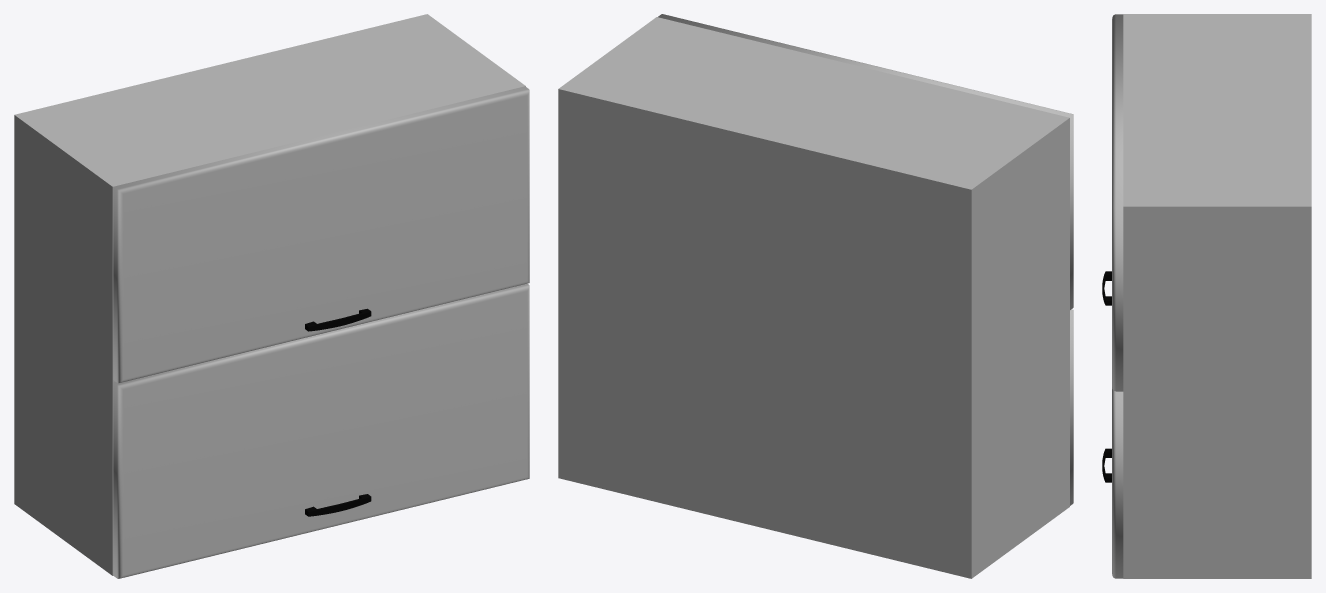
3 views of the same model, side by side, from view 1: azimuth 30°, elevation 25°; view 2: azimuth 150°, elevation 25°; view 3: azimuth 270°, elevation 25° (orthographic). The views are drawn at different scales.
Parts seen in each view (by area): view 1: Box011, Box029, Box001; view 2: Box001, Box011, Box029; view 3: Box001, Box011, Box029.
Part boxes in pixels (box(x1,y1,x2,y2)): Box011: box(113, 86, 529, 383); Box029: box(113, 283, 529, 578); Box001: box(14, 14, 525, 575); Box001: box(558, 17, 1069, 578); Box011: box(658, 14, 1073, 309); Box029: box(1070, 309, 1073, 505); Box001: box(1123, 14, 1311, 578); Box011: box(1112, 14, 1123, 391); Box029: box(1112, 387, 1123, 578).
Bounding box in the file's own units: 0.8 × 0.72 × 0.3671.
2 materials, 1 textured.
